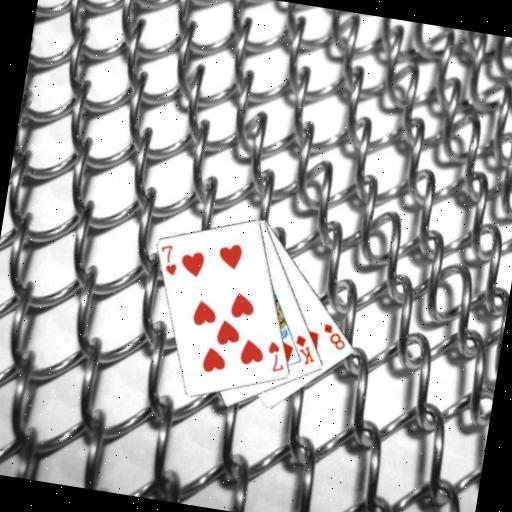7H: (154, 240, 182, 277), (262, 337, 289, 375)
8D: (318, 320, 350, 352)
KD: (289, 331, 320, 368)
